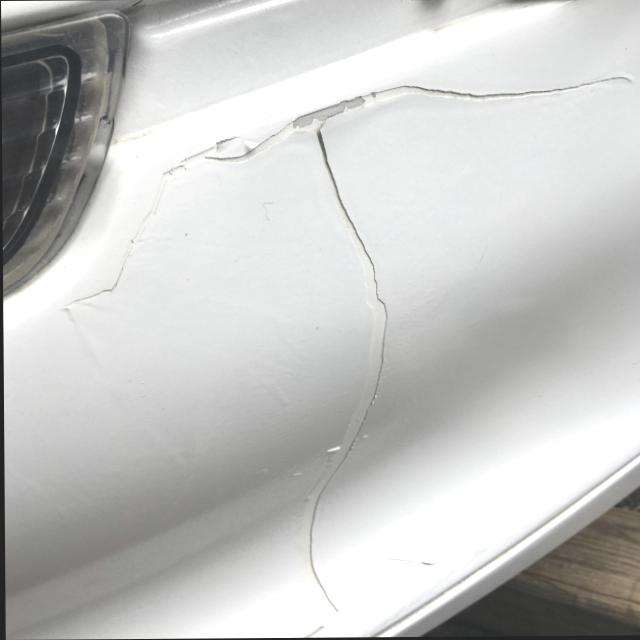Paint-Crack: (55, 72, 636, 638)
